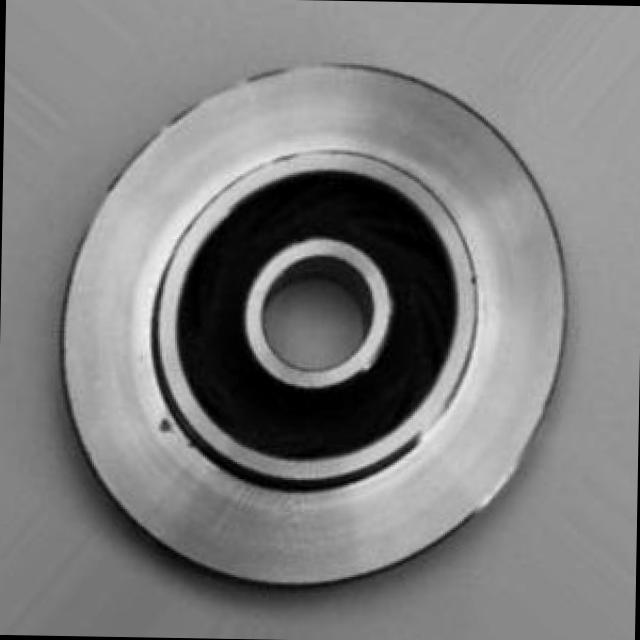Defect: (156, 413, 176, 445)
